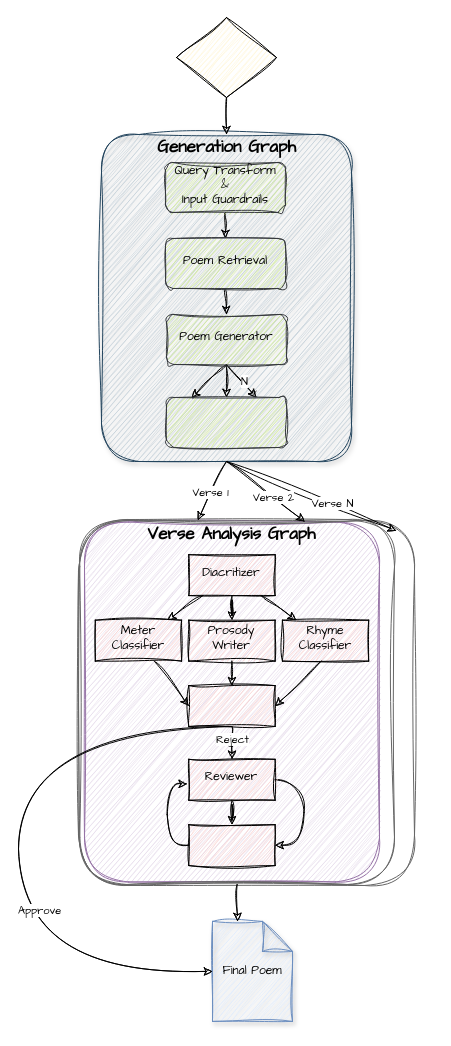
Some shapes in this 451 by 1046 pixel diagram are drawn without their labels. The shapes that lost their labels are listed below. From the top down, each one's centre as x and y in pixels, then its label:
At (x=226, y=57): "Task".
At (x=226, y=422): "Poem Validator".
At (x=231, y=705): "Validator".
At (x=231, y=845): "Reviser".
